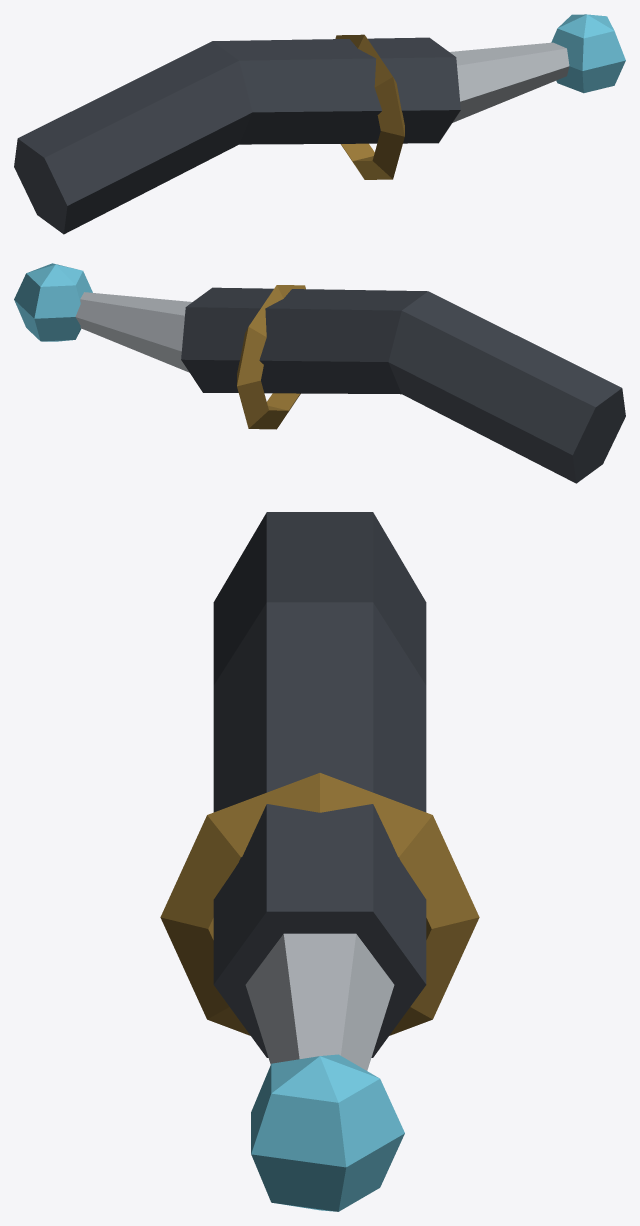
File: droid-shock-arm.glb
3 renders of one model, top to bottom at view 1: azimuth 30°, elevation 25°; view 2: azimuth 150°, elevation 25°; view 3: azimuth 270°, elevation 25°, orthographic. The views are drawn at different scales.
Visible parts, largest first — view 1: m; view 2: m; view 3: m.
Boxes of the visible parts, x1,y1,x2,y2 form: m: (14,14,625,234); m: (14,263,625,483); m: (160,512,479,1211).
Size of the model in its own units: 0.1 by 0.0264 by 0.0235.
